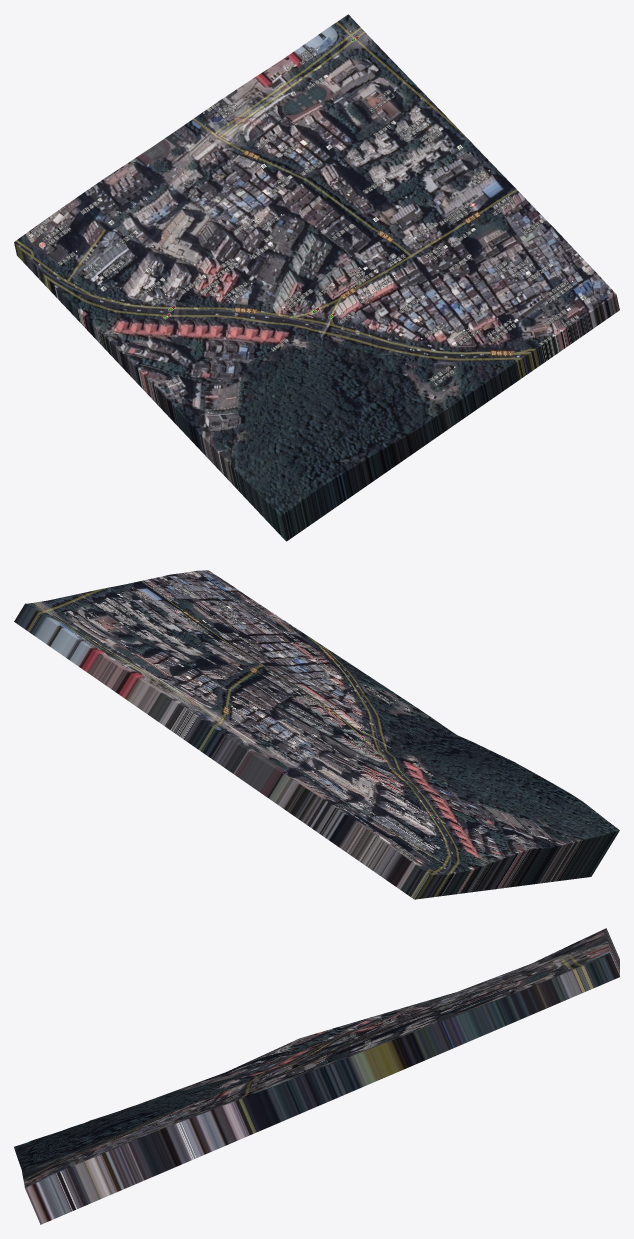
The picture shows the model from 3 angles, top to bottom: view 1: azimuth 30°, elevation 25°; view 2: azimuth 150°, elevation 25°; view 3: azimuth 270°, elevation 25°; orthographic projection. The views are drawn at different scales.
Parts seen in each view (by area): view 1: 0_2_13; view 2: 0_2_13; view 3: 0_2_13.
Part boxes in pixels (box(x1,y1,x2,y2)): 0_2_13: box(14, 14, 619, 541); 0_2_13: box(14, 570, 619, 899); 0_2_13: box(14, 928, 619, 1224).
Bounding box in the file's own units: 604 × 448 × 567.
1 material, 1 textured.
